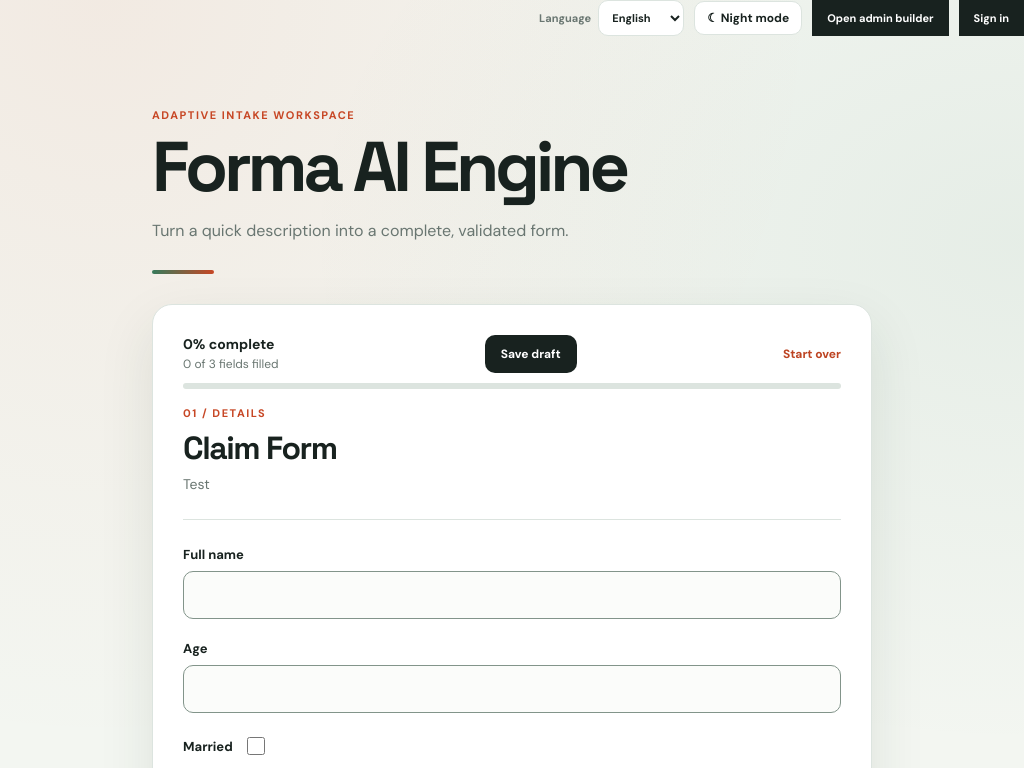
App › shows language, mode, and sign-in navigation in the header
Expected: the dropdown labelled "Language" is shown, 598,0 -> 684,36
Click the button "☾ Night mode" at (748, 18), box 694,1 -> 802,35
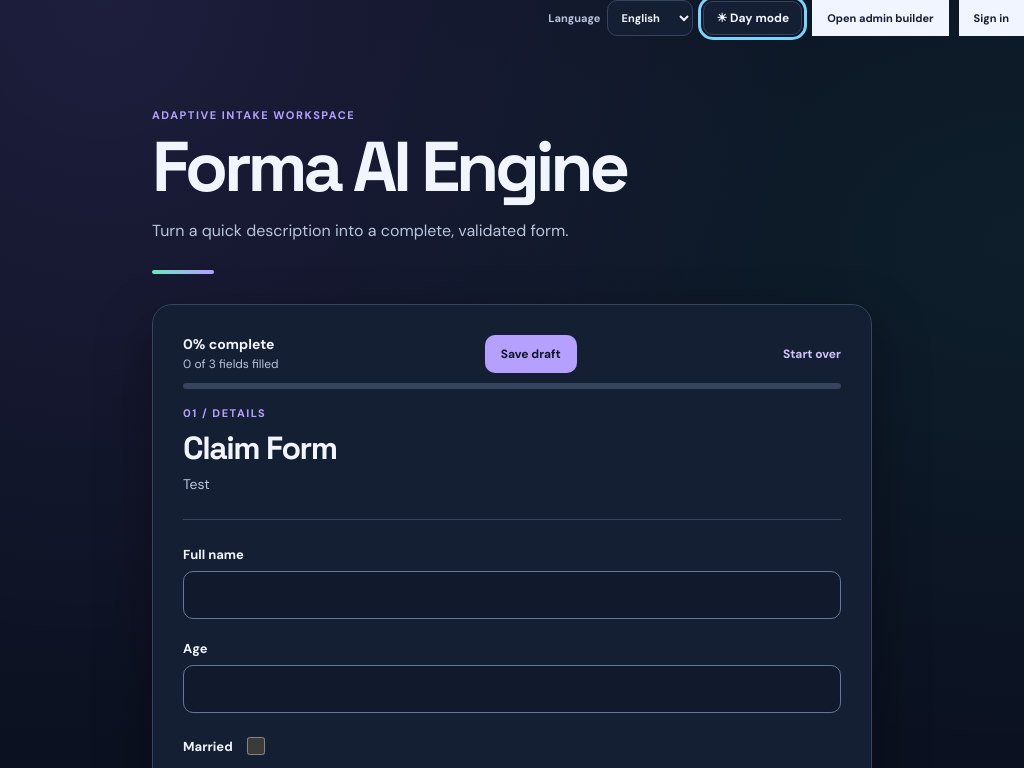
Expected: the button "☀ Day mode" is shown, 704,1 -> 802,35
